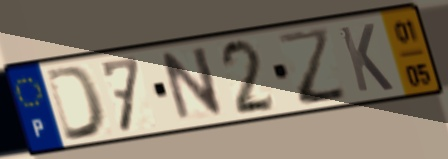2: (220, 37, 278, 116)
7: (98, 54, 143, 135)
D: (42, 62, 108, 144)
K: (335, 21, 397, 95)
N: (158, 43, 227, 126)
Z: (274, 24, 352, 109)
